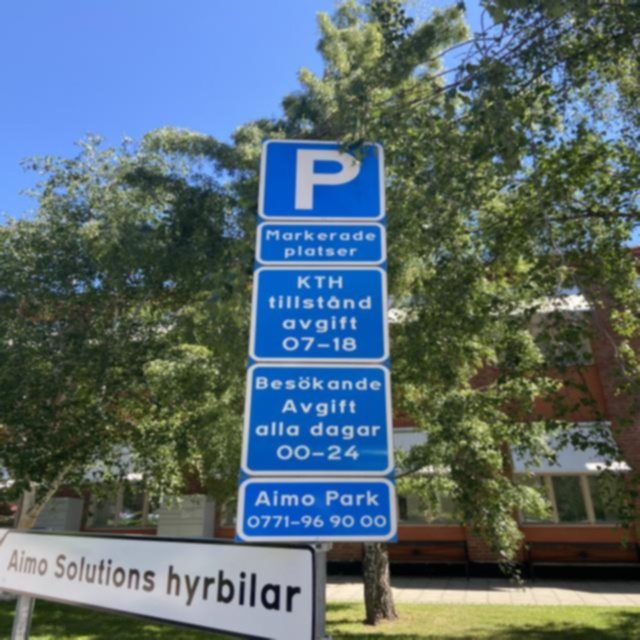P-skylt: (264, 138, 383, 220)
